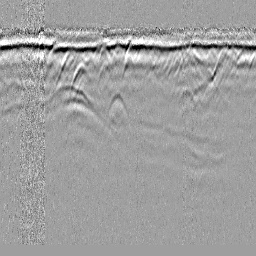cavity: (120, 52, 136, 81)
